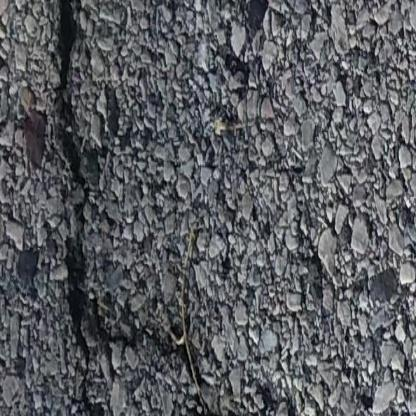Cracks: (47, 0, 213, 399), (143, 402, 257, 416)
